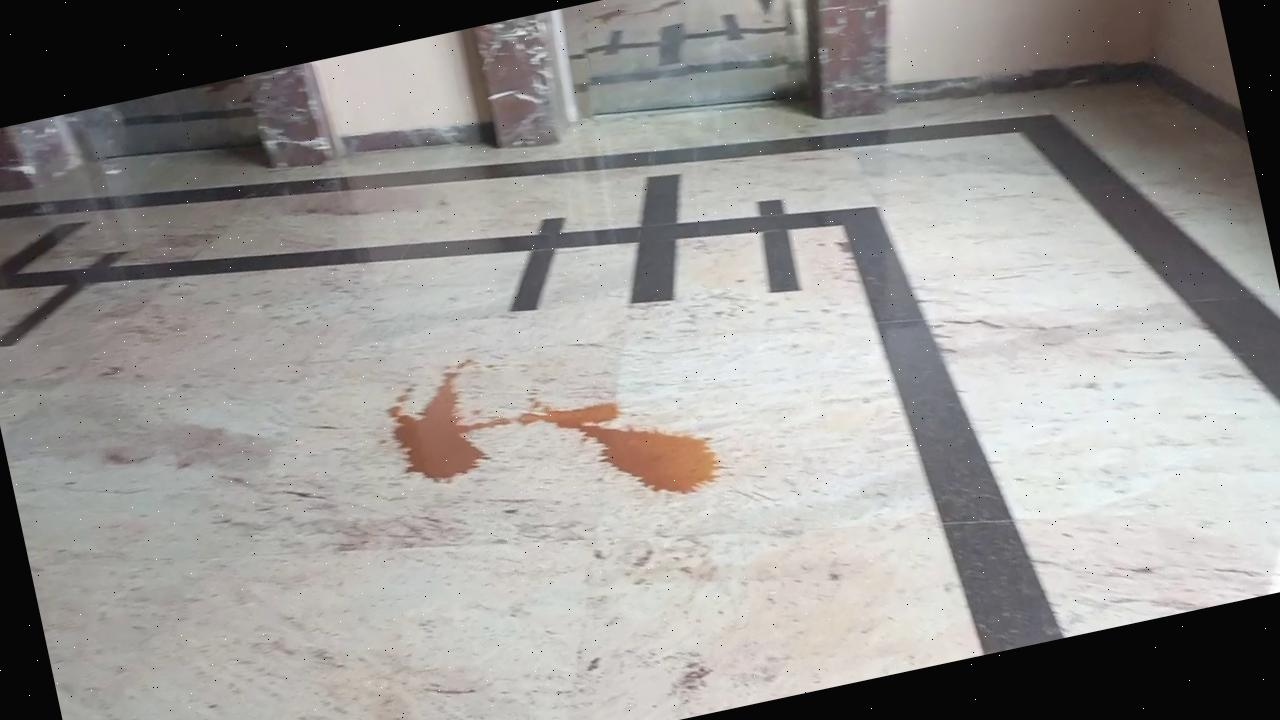dirty_floor: (381, 309, 724, 551)
